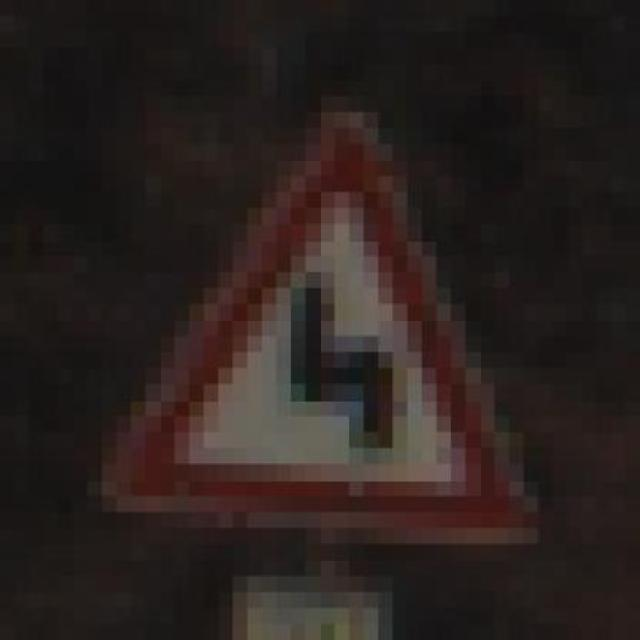Left Zig Zag Traffic: (101, 95, 582, 560)
